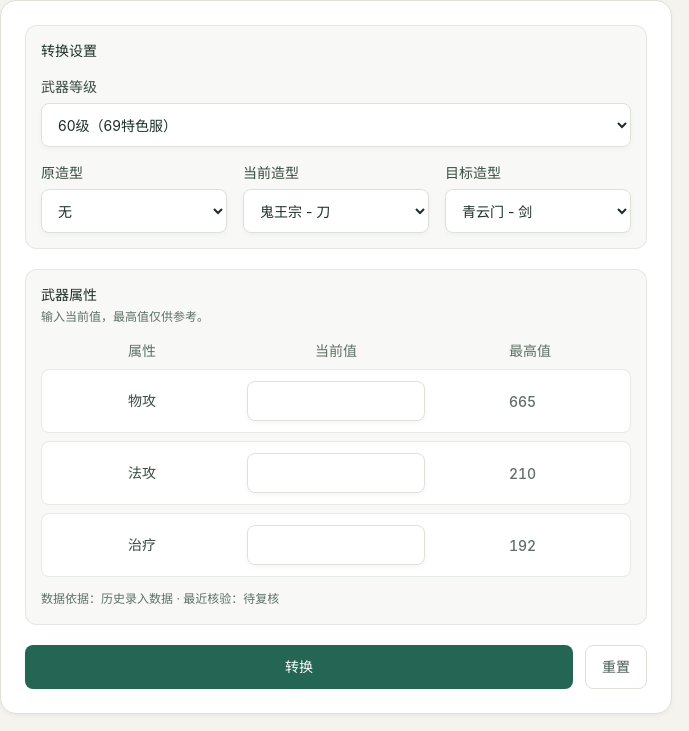
Scenario: WeaponConverter 组件 › 武器等级选择 › 应该在切换等级时更新最大值
#  切换到110级
Select "110级" in the dropdown labelled "武器等级": [336, 125] box x1=41 y1=103 x2=631 y2=147
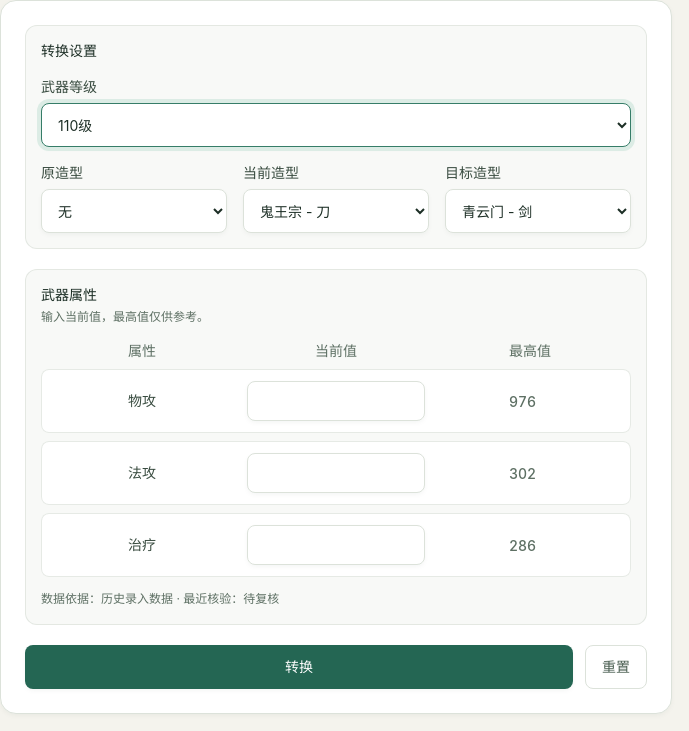
Now the 2nd number field holds "976", box x1=441 y1=381 x2=619 y2=421
Now the 4th number field holds "302", box x1=441 y1=453 x2=619 y2=493
Now the 6th number field holds "286", box x1=441 y1=525 x2=619 y2=565
